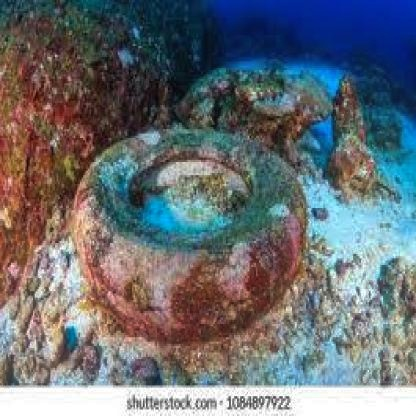tire: (72, 110, 306, 340)
